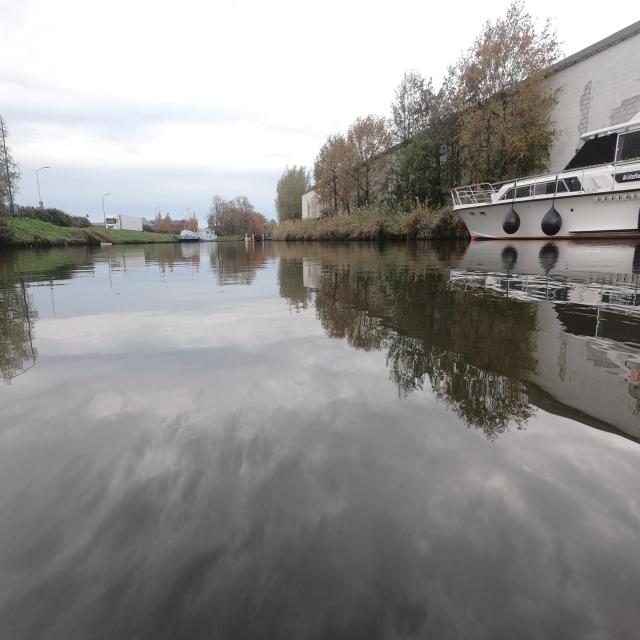boat: (452, 118, 640, 240), (180, 230, 211, 241)
grass: (2, 216, 179, 243)
reed: (267, 203, 468, 239)
sky: (2, 1, 509, 218), (531, 1, 639, 51)
tree: (454, 2, 560, 182), (390, 70, 458, 206), (347, 114, 390, 204), (314, 134, 358, 215)
water: (1, 236, 639, 639)
